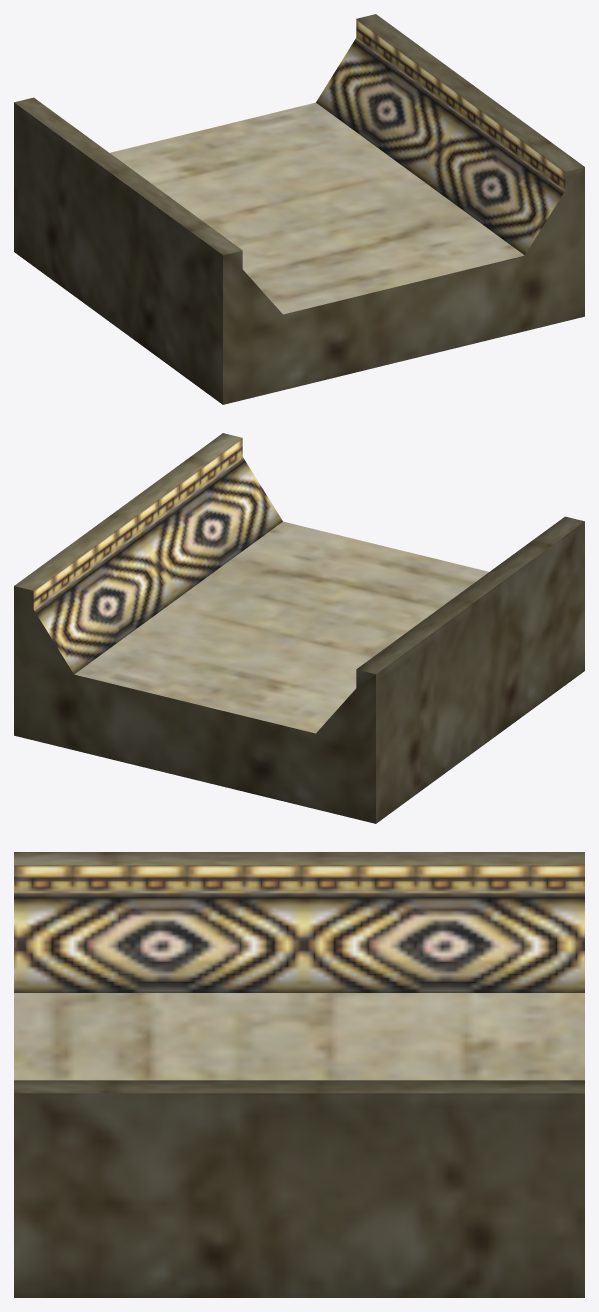
The model's file is jun_tile_stone_straight.obj.
3 views of the same model, one above another, from view 1: azimuth 30°, elevation 25°; view 2: azimuth 150°, elevation 25°; view 3: azimuth 270°, elevation 25° (orthographic). The views are drawn at different scales.
Parts seen in each view (by area): view 1: tile_straight_new; view 2: tile_straight_new; view 3: tile_straight_new.
Part boxes in pixels (left/top/right/bottom): tile_straight_new: left=14, top=14, right=584, bottom=404; tile_straight_new: left=14, top=433, right=584, bottom=823; tile_straight_new: left=14, top=852, right=584, bottom=1297.
Bounding box in the file's own units: 1 × 0.395 × 1.
1 material, 1 textured.
